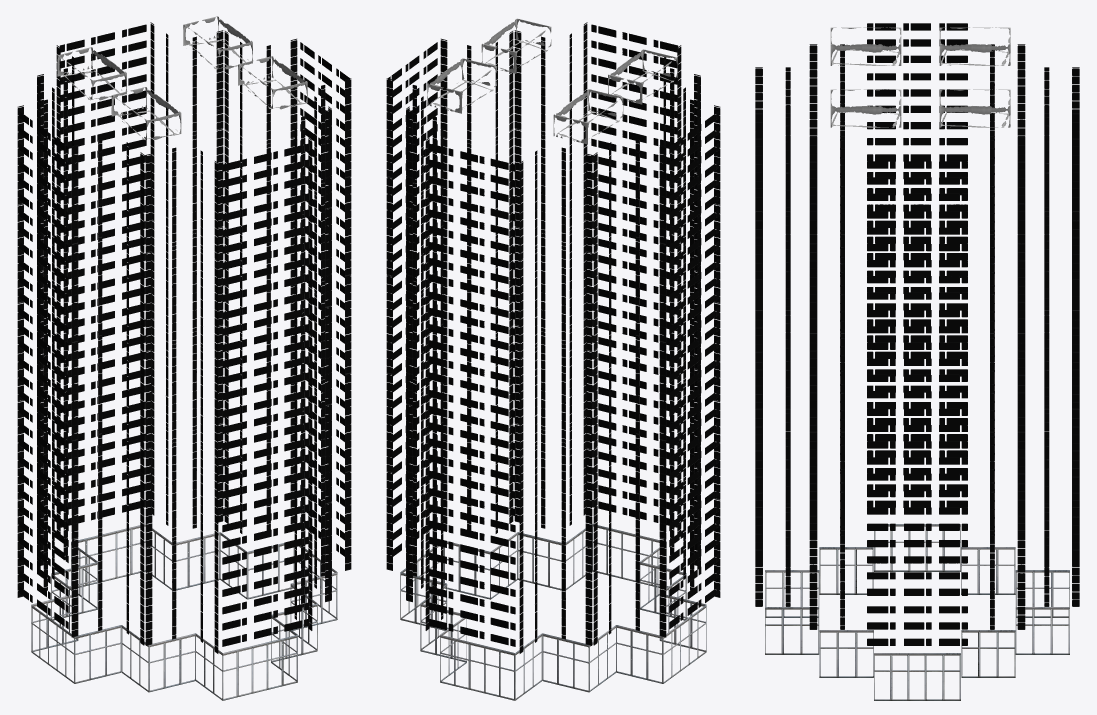
Rendered from si_building_07.fbx.
3 renders of one model, left to right at view 1: azimuth 30°, elevation 25°; view 2: azimuth 150°, elevation 25°; view 3: azimuth 270°, elevation 25°, orthographic.
Parts seen in each view (by area): view 1: si_building_07; view 2: si_building_07; view 3: si_building_07.
Boxes of the visible parts, bbox=[...] form: si_building_07: bbox=[17, 16, 351, 700]; si_building_07: bbox=[386, 18, 720, 700]; si_building_07: bbox=[755, 23, 1079, 700].
Bounding box in the file's own units: 91 × 173 × 91.
1 material, 1 textured.
